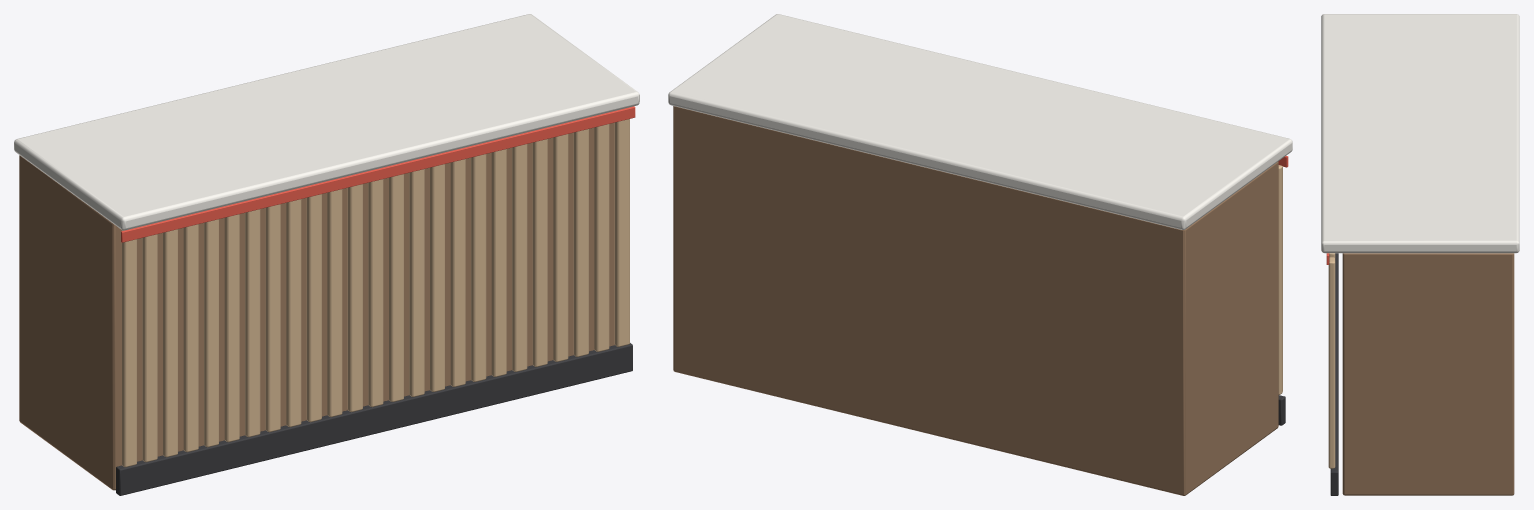
The model's file is Counter.fbx.
The picture shows the model from 3 angles, left to right: view 1: azimuth 30°, elevation 25°; view 2: azimuth 150°, elevation 25°; view 3: azimuth 270°, elevation 25°; orthographic projection. The views are drawn at different scales.
Parts seen in each view (by area): view 1: Counter; view 2: Counter; view 3: Counter.
Boxes of the visible parts, bbox=[...] form: Counter: bbox=[14, 14, 639, 495]; Counter: bbox=[668, 14, 1292, 495]; Counter: bbox=[1321, 14, 1519, 495].
Size of the model in its own units: 2.02 by 1.05 by 0.74.
